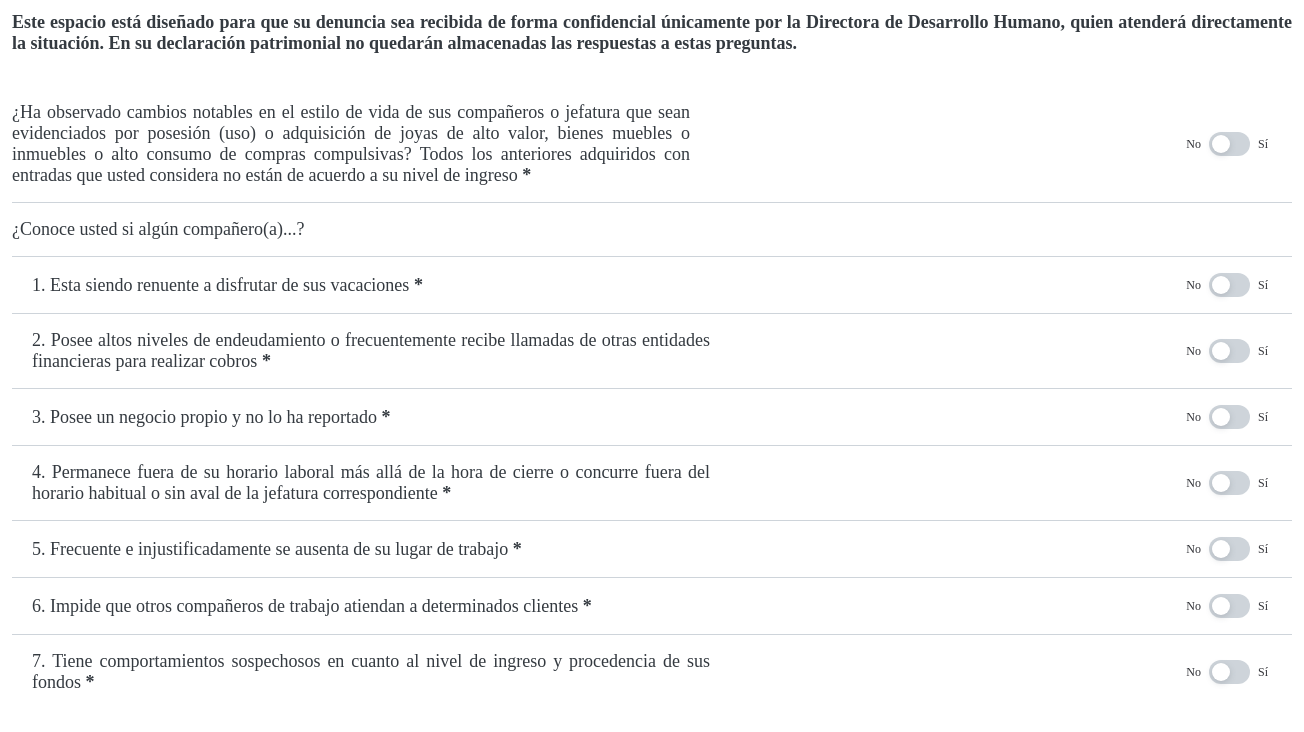
ConfidentialReport (paso 12) › shows the instruction and the detail field only for the question answered Yes
Click the switch named "1. Esta siendo renuente" in the row of "1.". click: click(1230, 285)
box: [1209, 273, 1250, 297]
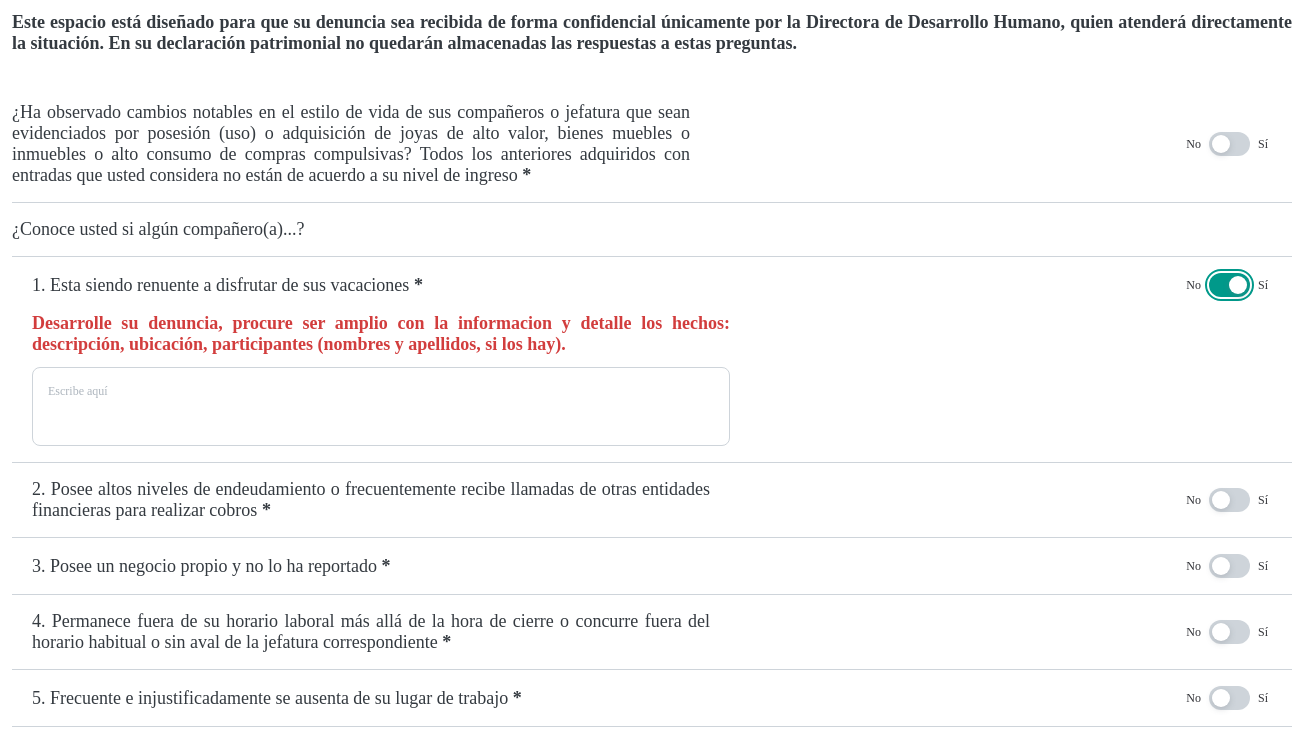
expect the text "Desarrolle su denuncia, procure ser amplio" is shown: met, box [32, 313, 730, 354]
expect the number of text boxes is 1: met, box [32, 367, 730, 446]
